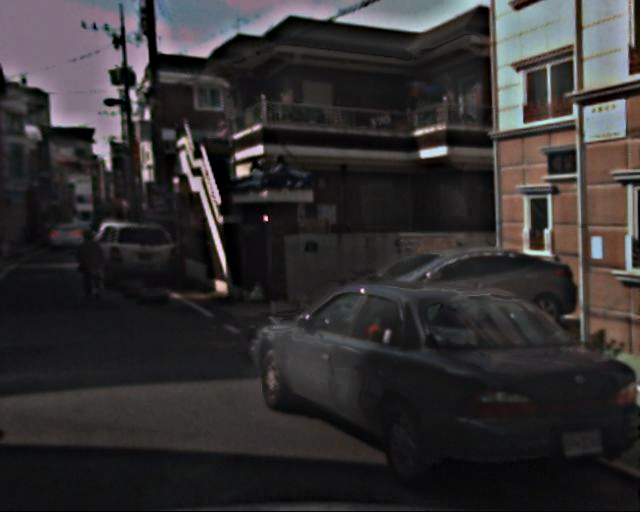person: (77, 228, 107, 300)
